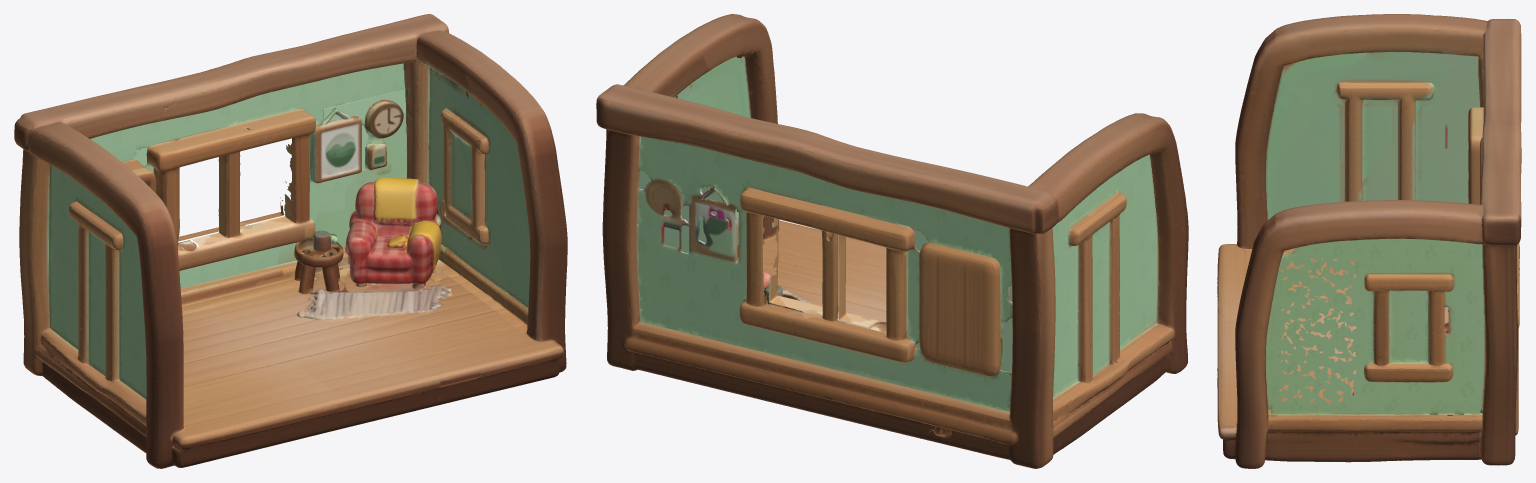
The model's file is 新房间.glb.
3 views of the same model, side by side, from view 1: azimuth 30°, elevation 25°; view 2: azimuth 150°, elevation 25°; view 3: azimuth 270°, elevation 25° (orthographic). The views are drawn at different scales.
Parts seen in each view (by area): view 1: geometry_0, 立方体.003; view 2: geometry_0, 立方体.003; view 3: geometry_0.
Boxes of the visible parts, bbox=[...] form: geometry_0: bbox=[14, 14, 567, 468]; 立方体.003: bbox=[323, 89, 405, 169]; geometry_0: bbox=[596, 14, 1188, 468]; 立方体.003: bbox=[638, 170, 723, 253]; geometry_0: bbox=[1217, 14, 1521, 468].
Size of the model in its own units: 0.35 by 0.2065 by 0.2195.
5 materials, 1 textured.
